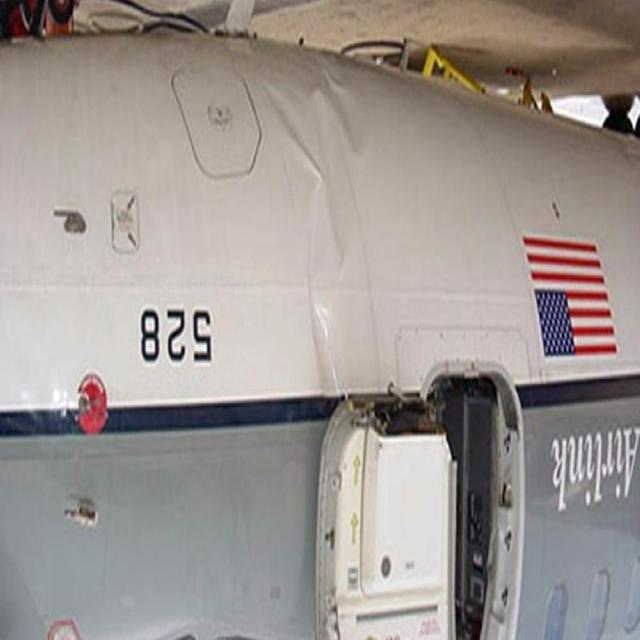dent: (260, 44, 370, 395)
